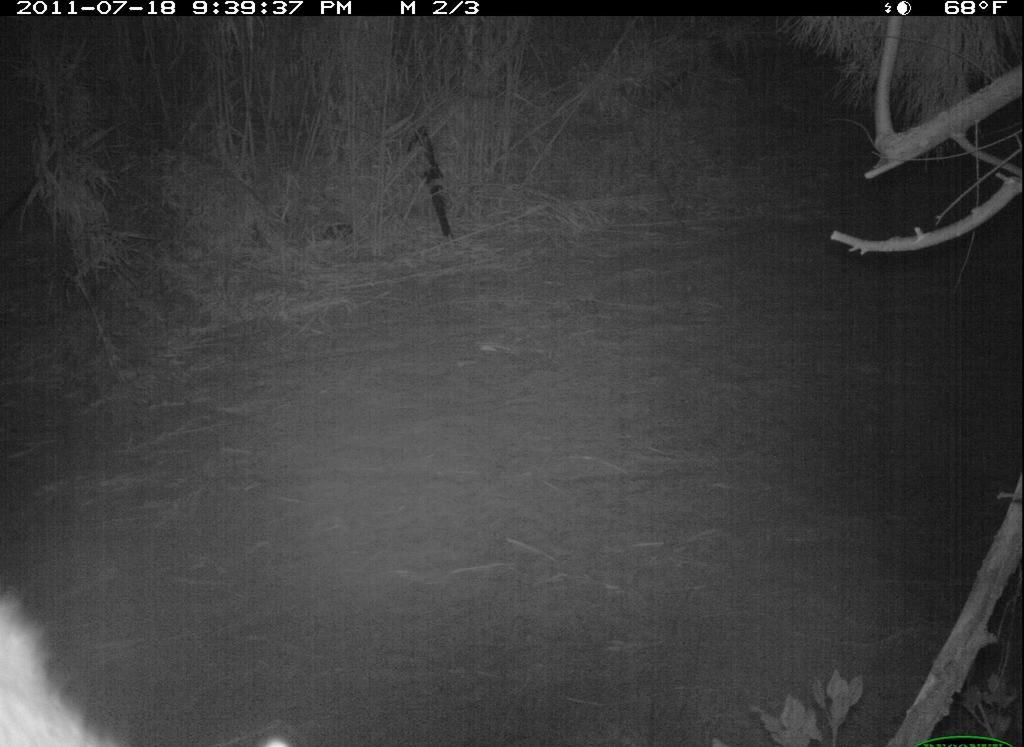raccoon: (2, 589, 300, 747)
